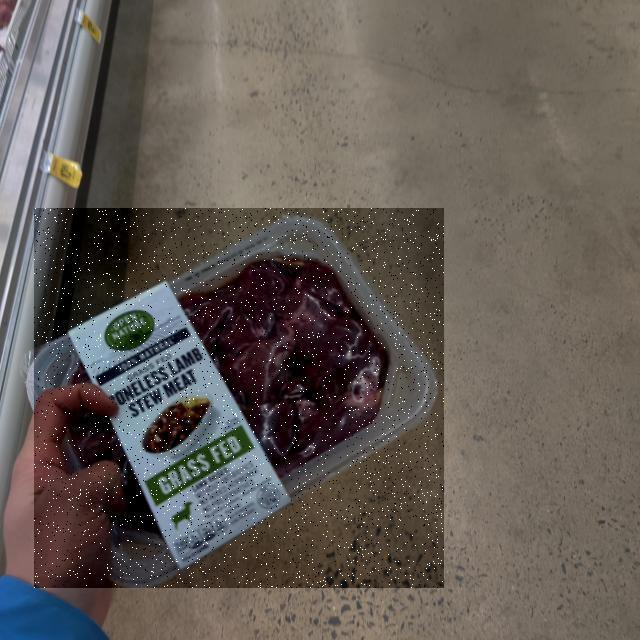Meat: (34, 208, 444, 588)
